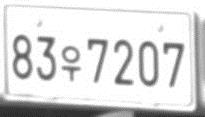0: (139, 40, 159, 87)
2: (113, 38, 135, 86)
3: (36, 34, 55, 81)
7: (86, 36, 109, 83), (162, 42, 185, 87)
8: (12, 33, 33, 80)
우: (61, 44, 81, 81)
